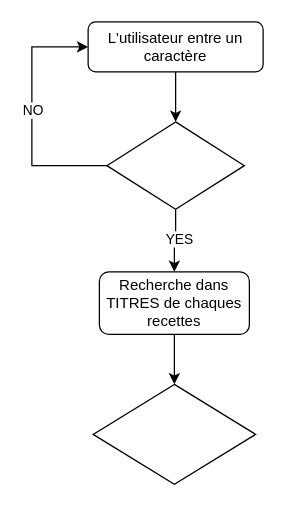
The diagram is 285 pixels wide and 506 high, and some of its shapes have lost their labels. Here are the shapes that lost their labels. From the top down, the centre of each, then its label:
At (175,165): "nb caractères > 2".
At (174,433): "Correspondance Trouvée ?".
